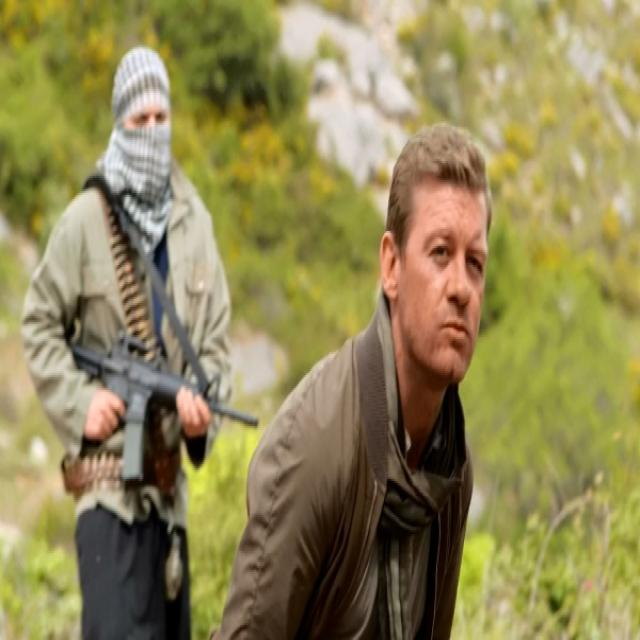rifle: (73, 334, 263, 492)
